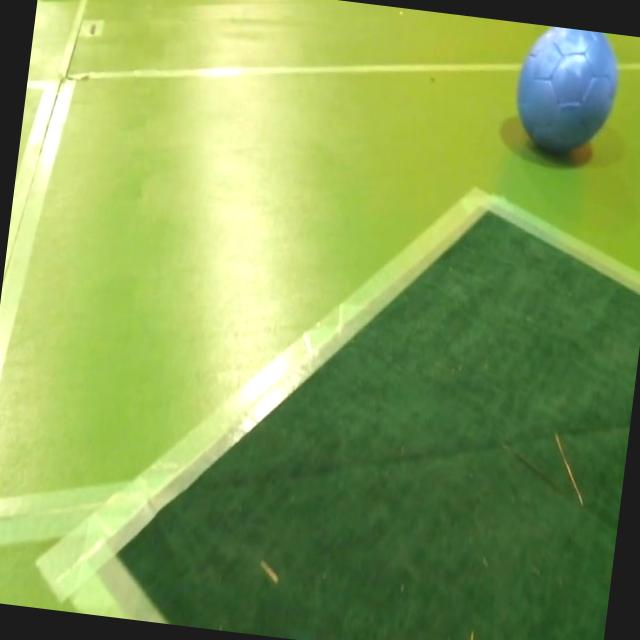blue_ball: (506, 22, 623, 162)
